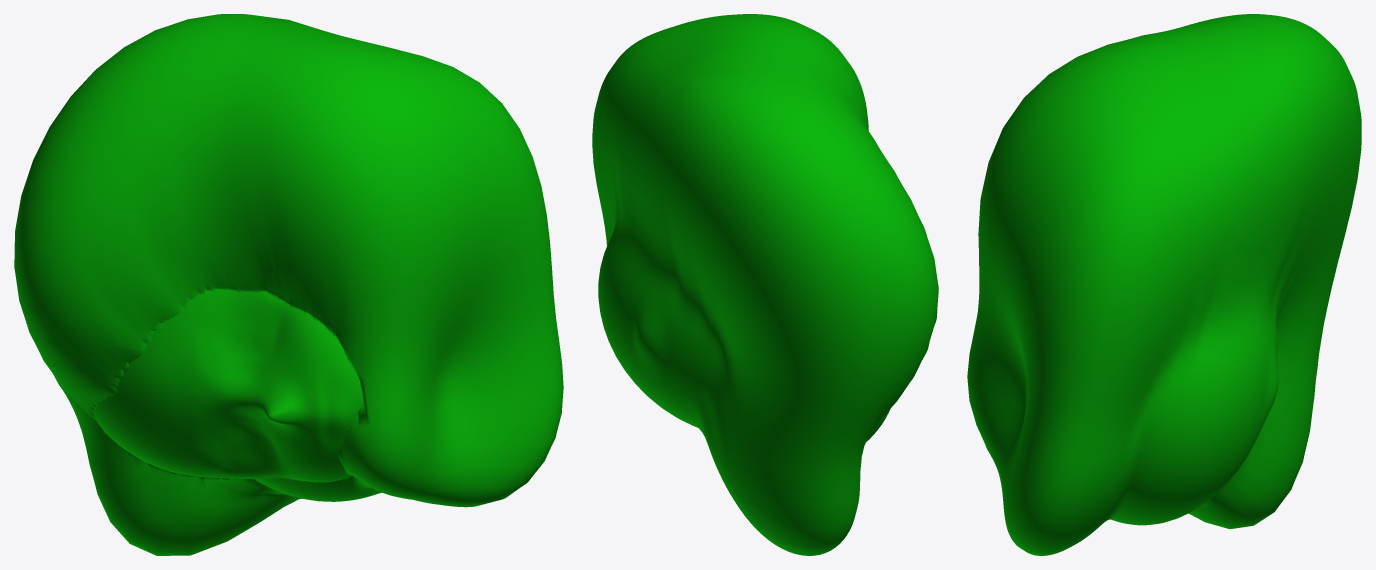
File: Onbutukun_03.fbx
3 renders of one model, left to right at view 1: azimuth 30°, elevation 25°; view 2: azimuth 150°, elevation 25°; view 3: azimuth 270°, elevation 25°, orthographic. The views are drawn at different scales.
Visible parts, largest first — view 1: 球.024; view 2: 球.024; view 3: 球.024.
Part boxes in pixels (x1,y1,x2,y2): 球.024: [14, 14, 563, 555]; 球.024: [592, 14, 938, 555]; 球.024: [967, 14, 1361, 555].
Bounding box in the file's own units: 18.95 × 21.22 × 14.63.
